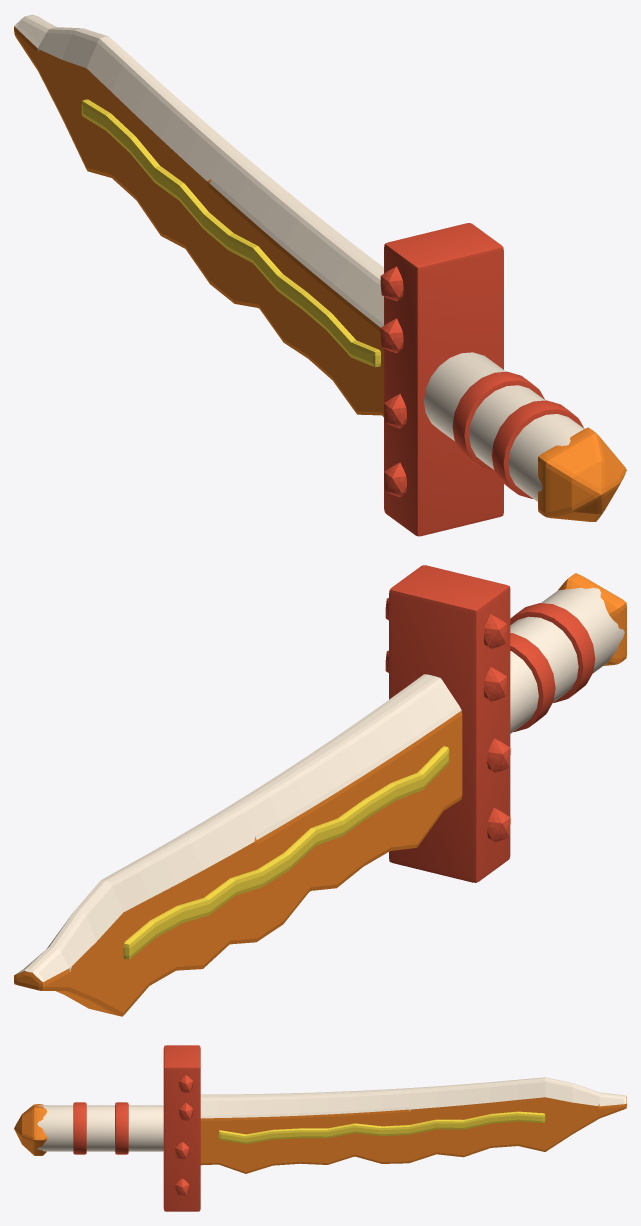
File: Sword_ClinkerSabre.glb
3 views of the same model, one above another, from view 1: azimuth 30°, elevation 25°; view 2: azimuth 150°, elevation 25°; view 3: azimuth 270°, elevation 25° (orthographic). The views are drawn at different scales.
Parts seen in each view (by area): view 1: Sword_ClinkerSabre; view 2: Sword_ClinkerSabre; view 3: Sword_ClinkerSabre.
Part boxes in pixels (x1=…): Sword_ClinkerSabre: x1=14, y1=14, x2=626, y2=536; Sword_ClinkerSabre: x1=14, y1=565, x2=626, y2=1016; Sword_ClinkerSabre: x1=14, y1=1045, x2=626, y2=1211.
Bounding box in the file's own units: 0.1182 × 0.2602 × 1.
1 material, 1 textured.
